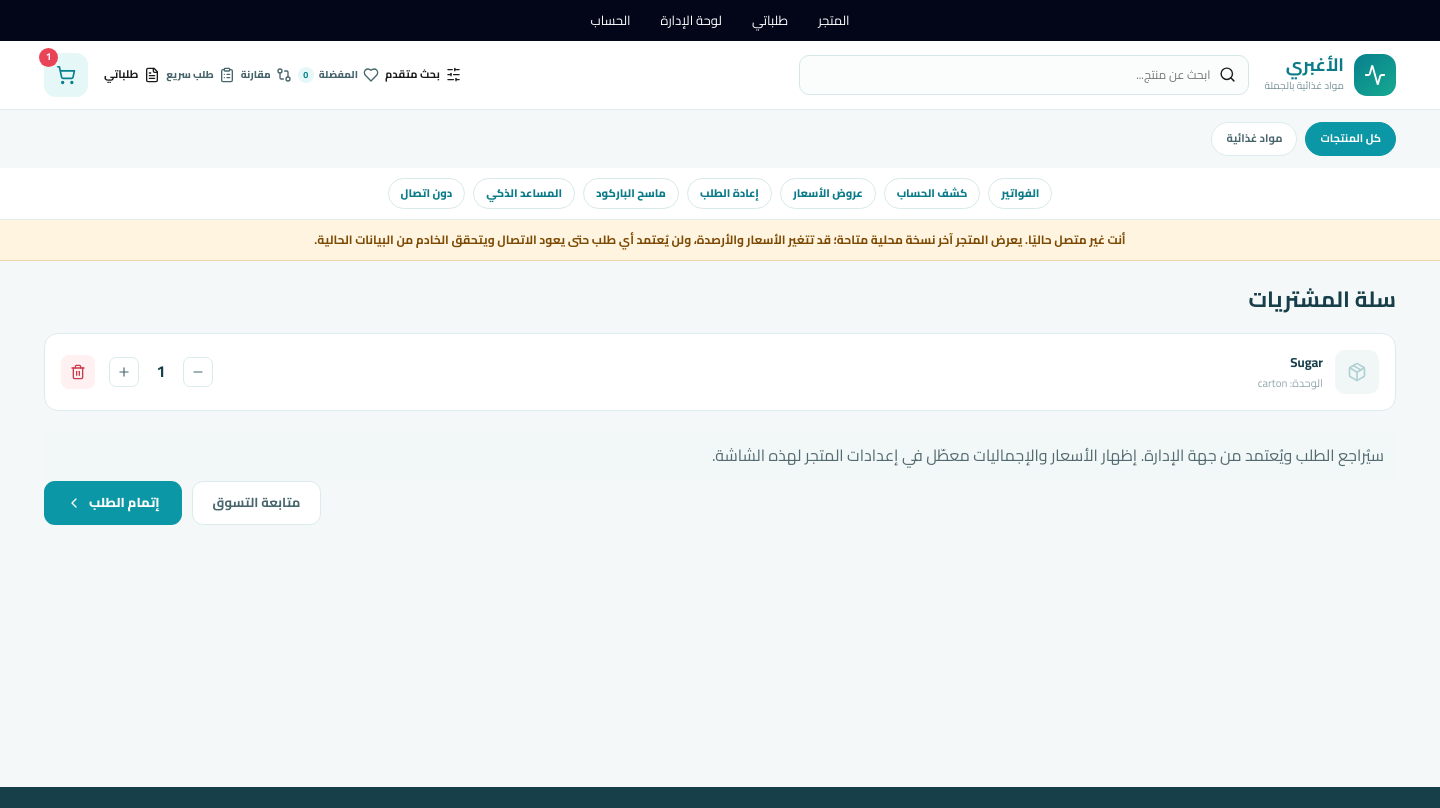
Test: customer storefront saved discovery › keeps the offline cart scoped to the signed-in customer and blocks order submission until server validation succeeds
The width and height of the screenshot is (1440, 808).
Later steps or results of the test are not shown.
Click the button with class "sf-btn-primary" at (113, 503), box [44,481,182,525]
(page scrolled)
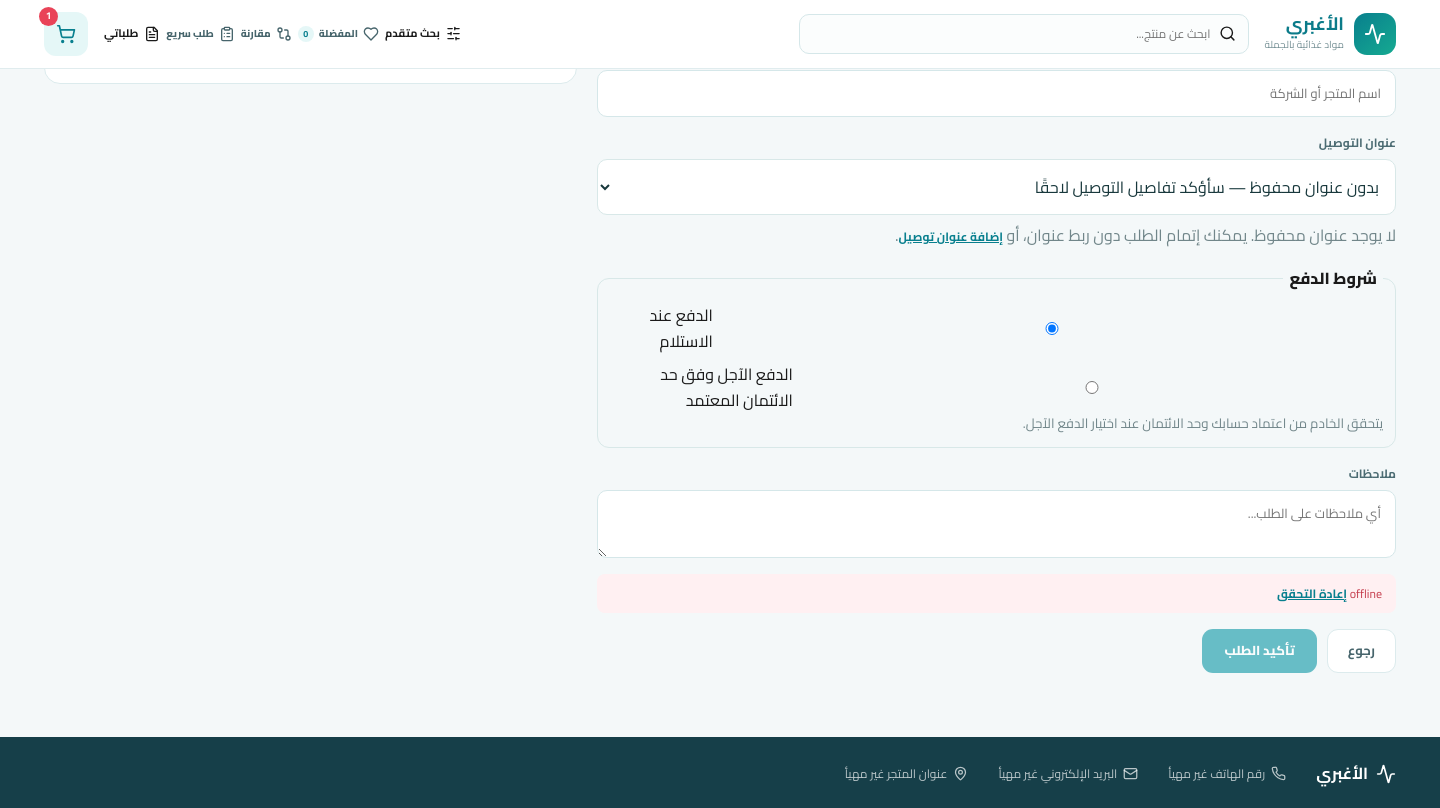
Expected: the text "offline" is shown, [1350,582,1382,605]
Expected: the button "تأكيد الطلب" is disabled, [1202,629,1317,673]
